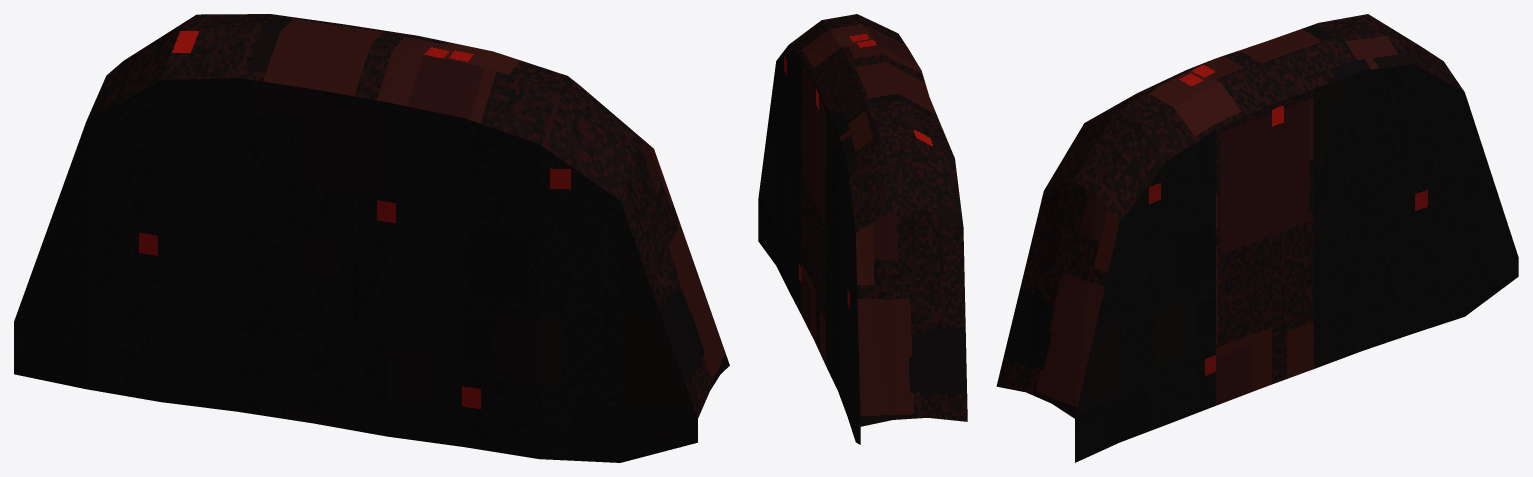
File: map_base_lip139.glb
3 views of the same model, side by side, from view 1: azimuth 30°, elevation 25°; view 2: azimuth 150°, elevation 25°; view 3: azimuth 270°, elevation 25° (orthographic). The views are drawn at different scales.
Visible parts, largest first — view 1: MapBaseLip139Rock; view 2: MapBaseLip139Rock; view 3: MapBaseLip139Rock.
Part boxes in pixels (x1,y1,x2,y2): MapBaseLip139Rock: [14, 14, 729, 462]; MapBaseLip139Rock: [758, 14, 967, 444]; MapBaseLip139Rock: [996, 14, 1518, 462].
Size of what is drawn, in the model's own units: 6.36 by 4.51 by 6.97.
Materials: 2 (2 with a texture image).
